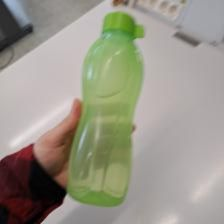bottle: (63, 11, 145, 207)
